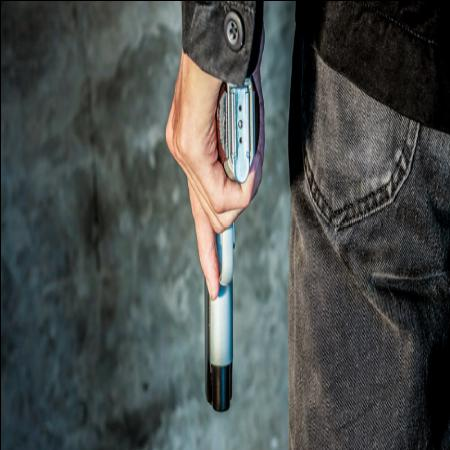Pistol: (194, 67, 256, 411)
